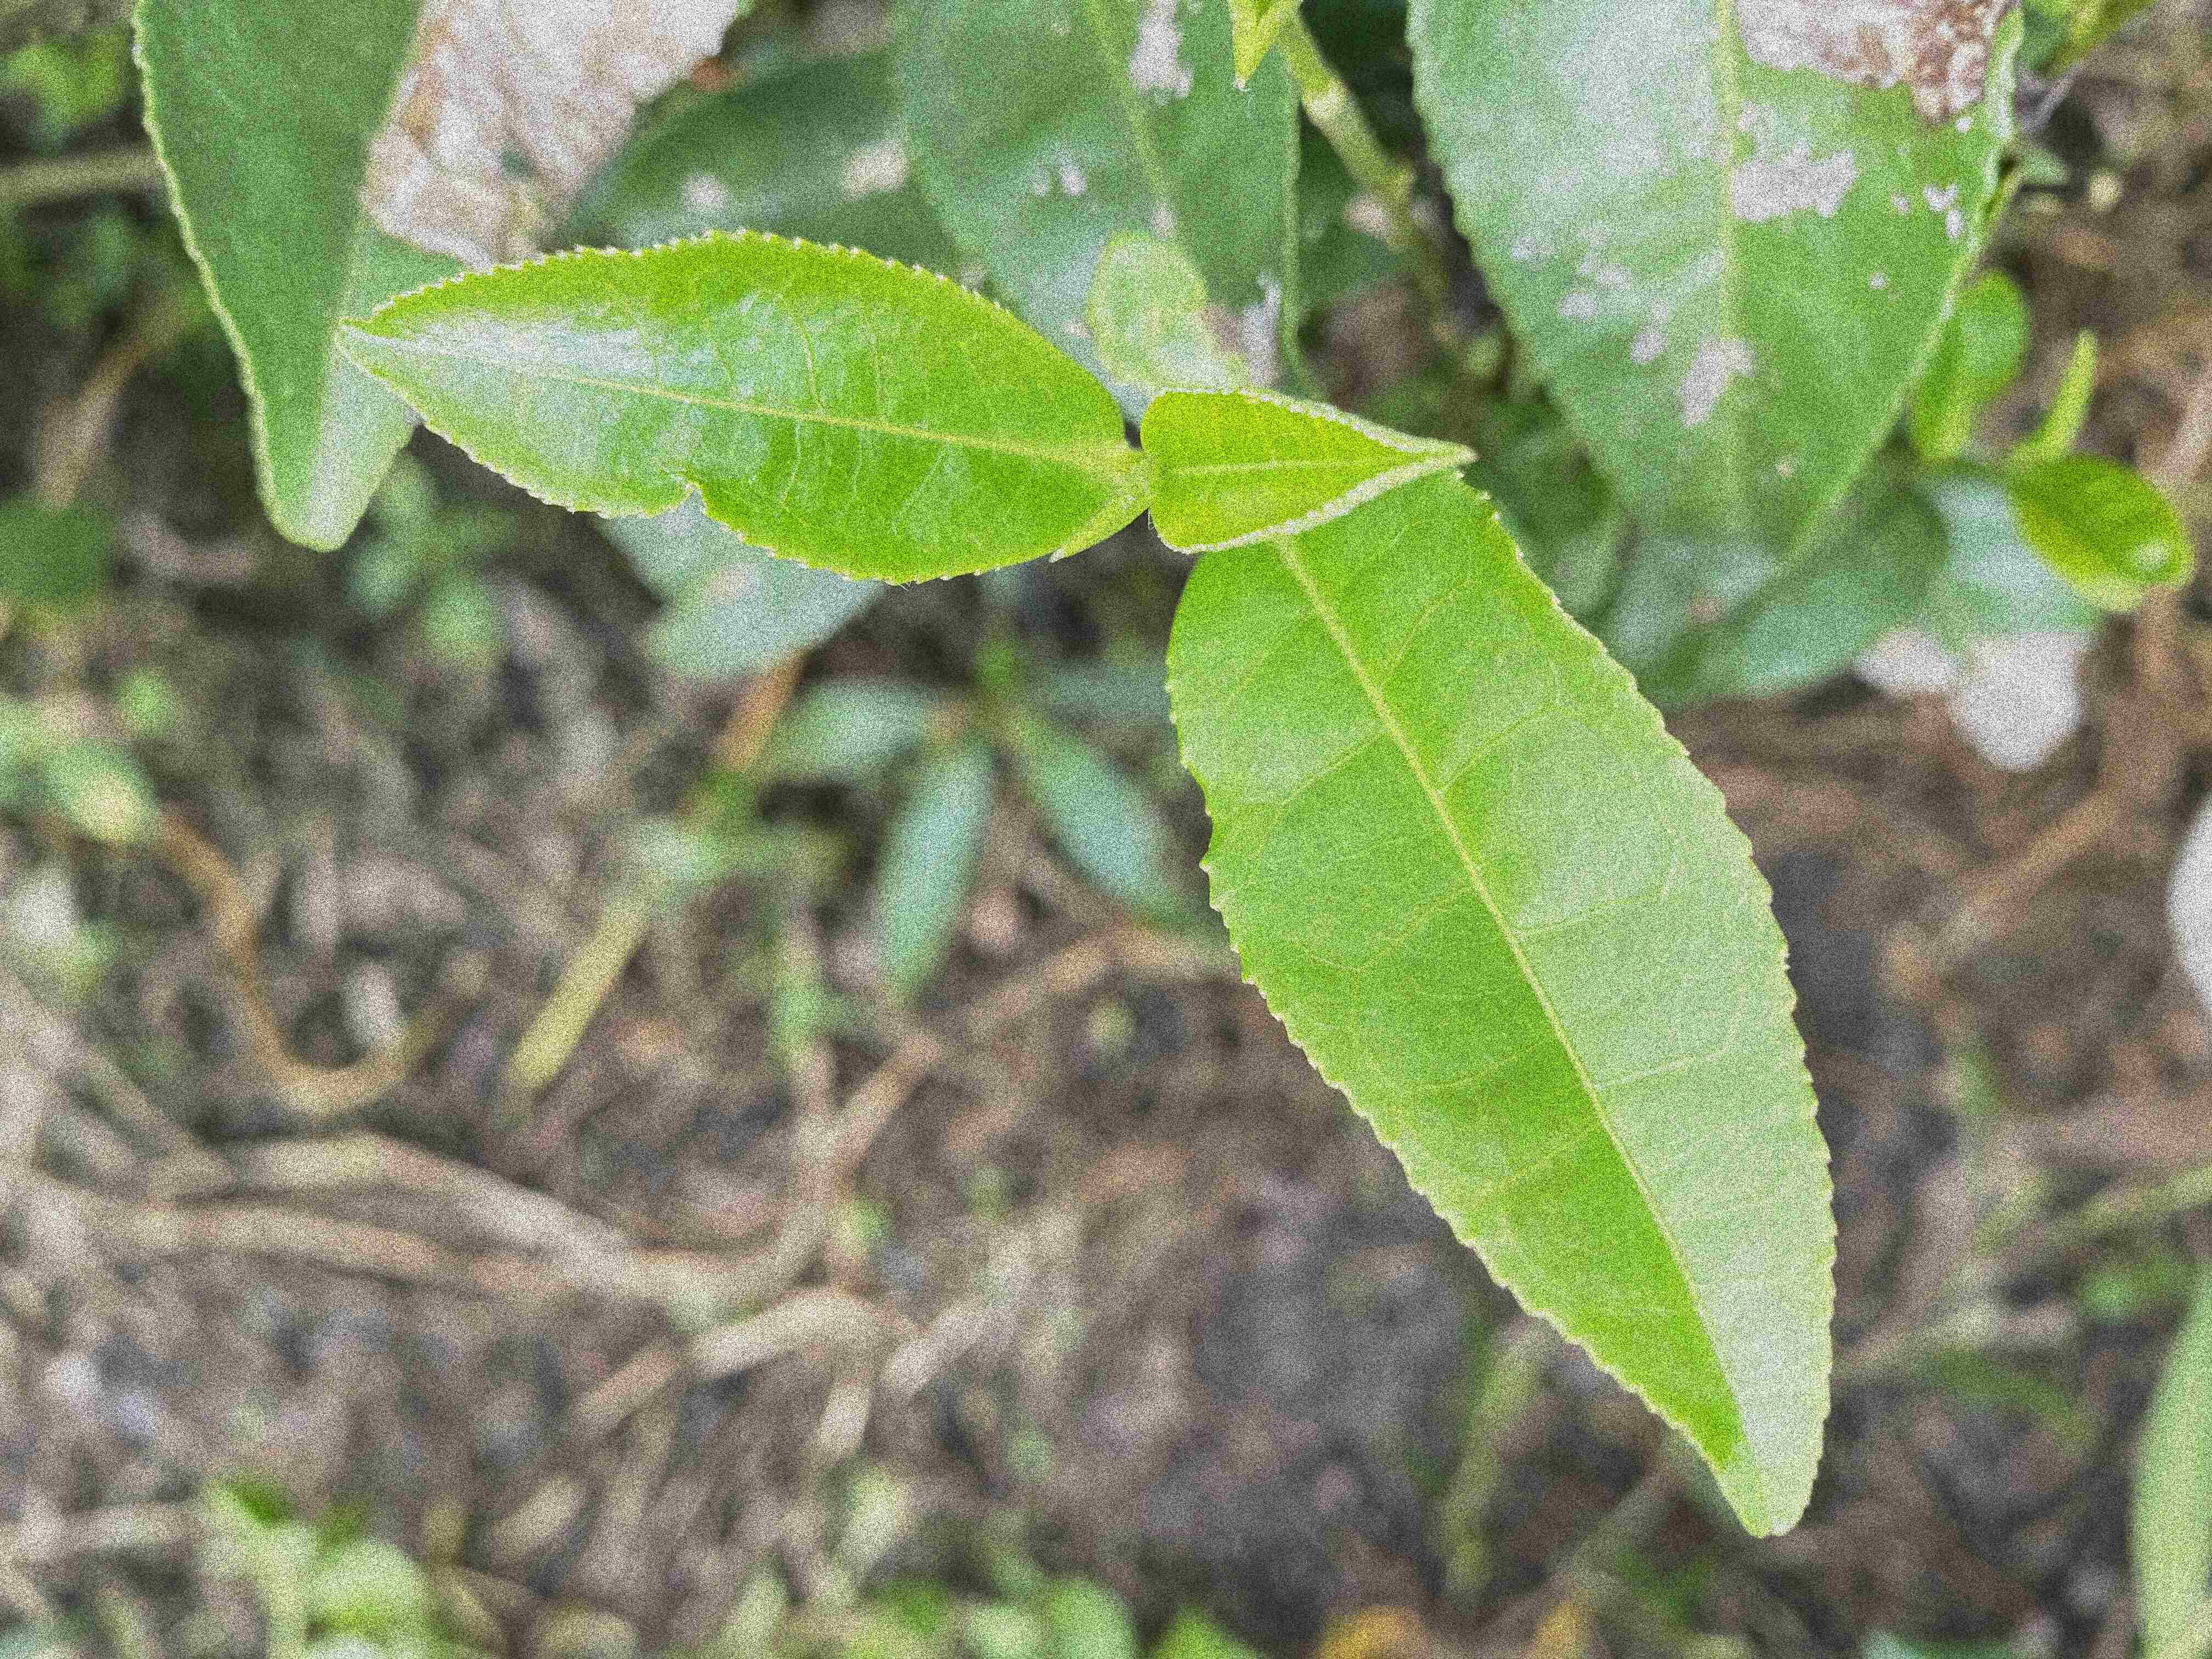healthy: (1162, 464, 1841, 1539), (336, 232, 1125, 587), (1139, 383, 1479, 556)
tanju_high: (1406, 5, 2033, 558), (127, 2, 745, 558), (890, 2, 1313, 423)
